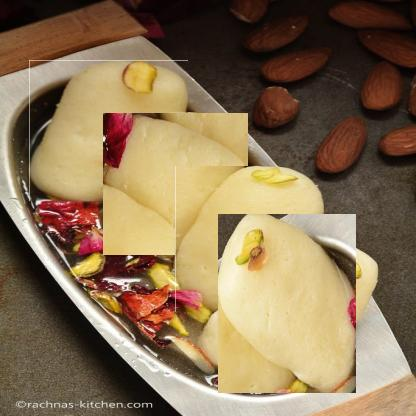cham cham: (207, 223, 367, 383), (29, 60, 188, 201), (175, 166, 324, 312), (104, 112, 248, 256)
